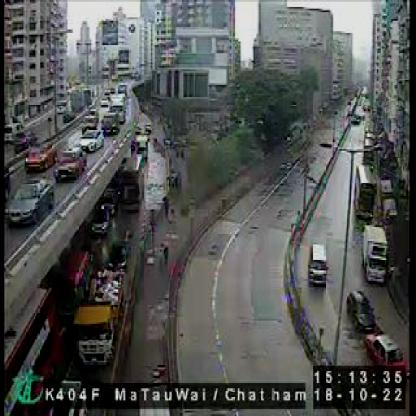Bus: (3, 278, 65, 408), (353, 166, 378, 220)
Car: (6, 176, 56, 230), (363, 333, 410, 384), (346, 289, 378, 335), (118, 162, 146, 214), (24, 137, 58, 174), (56, 144, 88, 182), (306, 243, 329, 288), (89, 200, 116, 236), (81, 128, 103, 153), (101, 112, 121, 137)
Truck: (72, 264, 128, 366), (362, 224, 390, 287), (108, 92, 130, 124)
